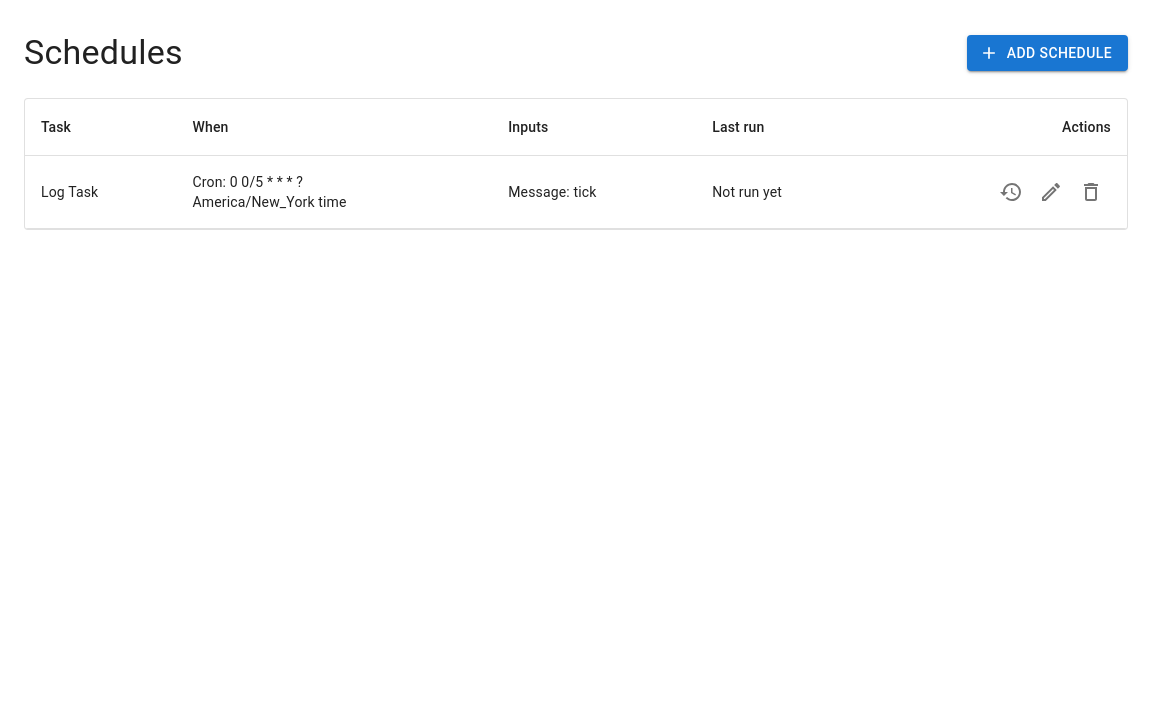
Test case: run history dialog › says so when the schedule has not run yet
Click the button named "Run history": (1011, 192) [991,172,1031,212]
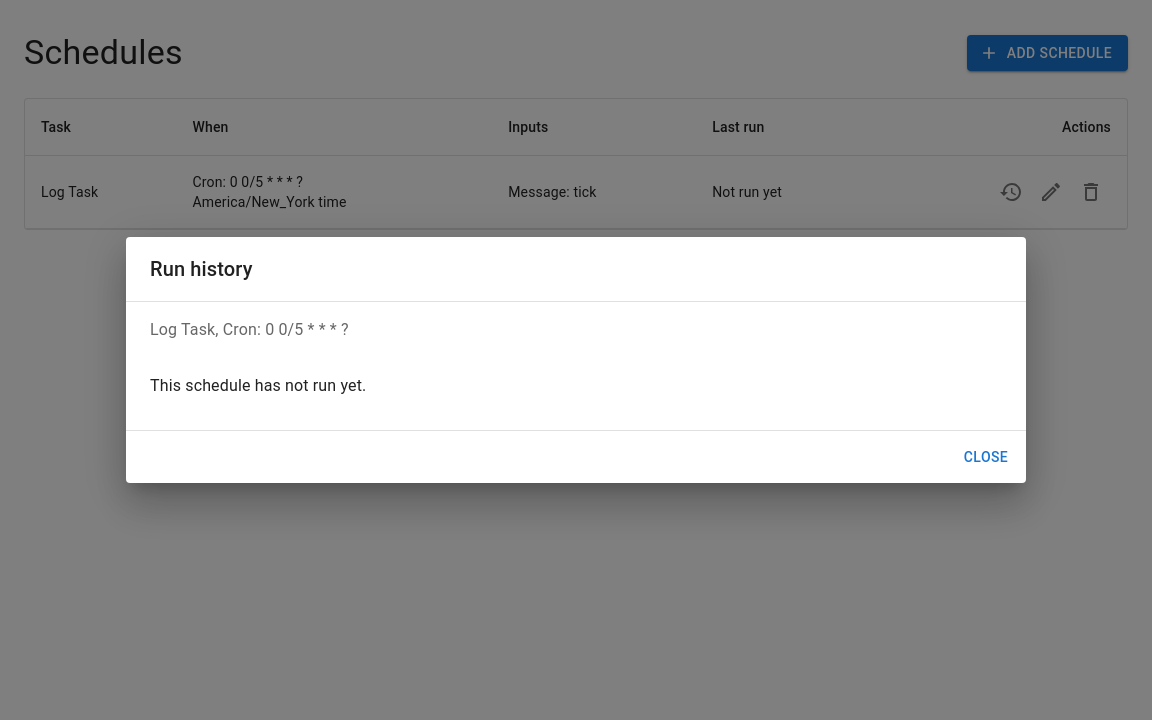
Check: the text "This schedule has not run yet." is shown, box [150,376,366,395]
